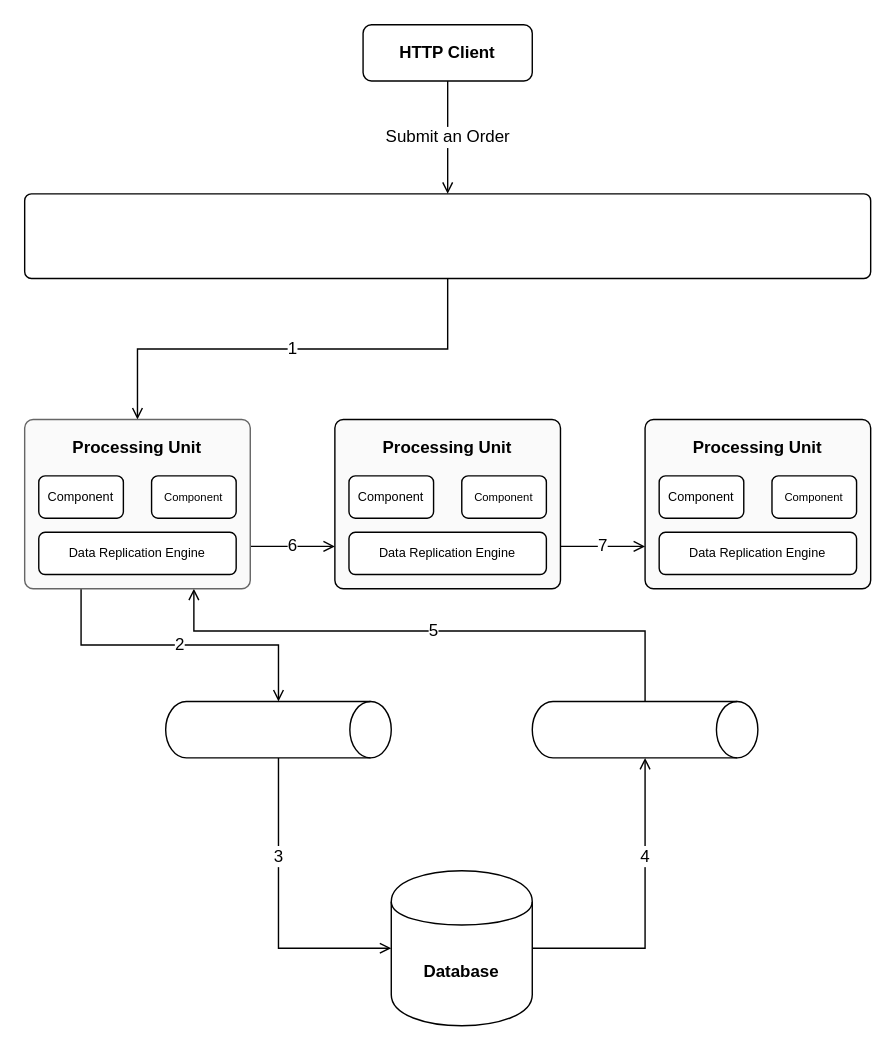
This 895x1050 diagram has some shape labels left out. Each missing label, with the centre of its shape:
"Read Data Pump" belongs at (x=644, y=729).
"Reverse Proxy / Virtualized Middleware" belongs at (x=447, y=235).
"Write Data Pump" belongs at (x=277, y=729).
